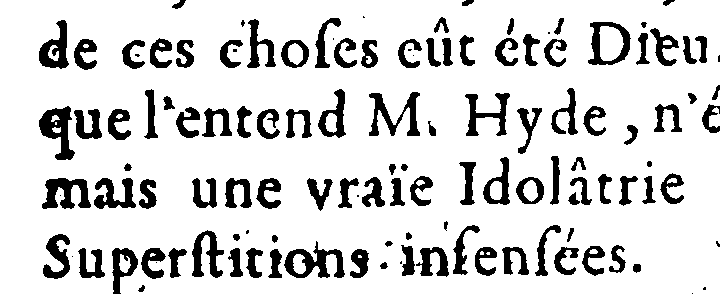o: (282, 247, 317, 283), (279, 32, 307, 73), (517, 174, 544, 207)
